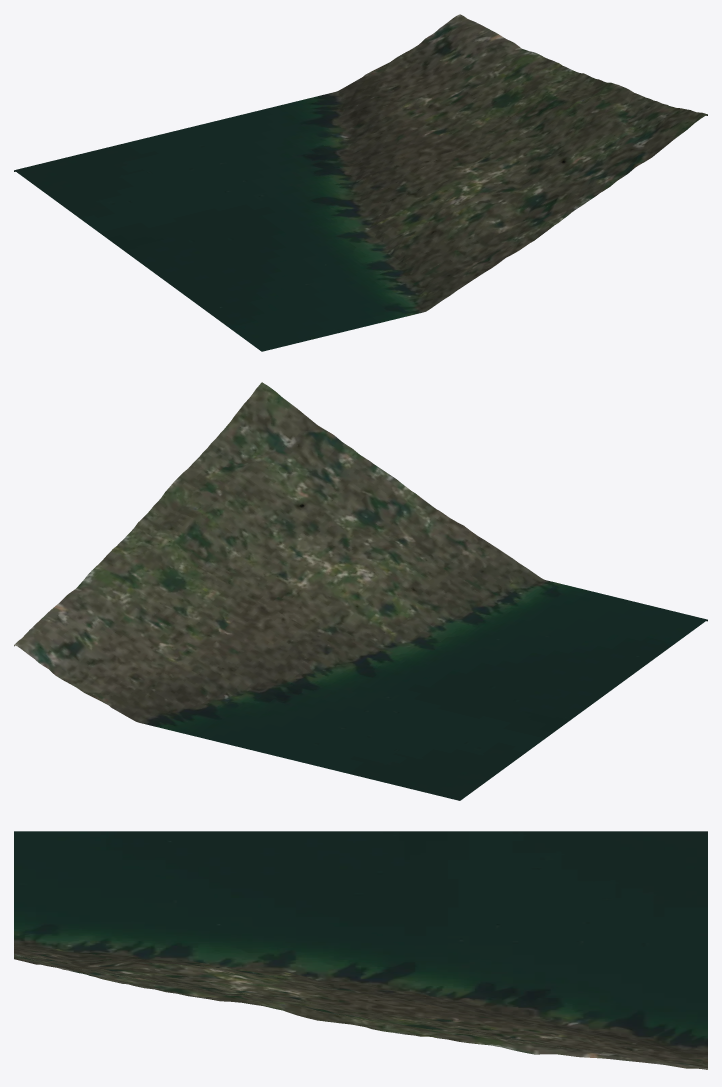
3 renders of one model, top to bottom at view 1: azimuth 30°, elevation 25°; view 2: azimuth 150°, elevation 25°; view 3: azimuth 270°, elevation 25°, orthographic. The views are drawn at different scales.
Bounding box in the file's own units: 250 × 69.93 × 241.
Materials: 1 (1 with a texture image).
